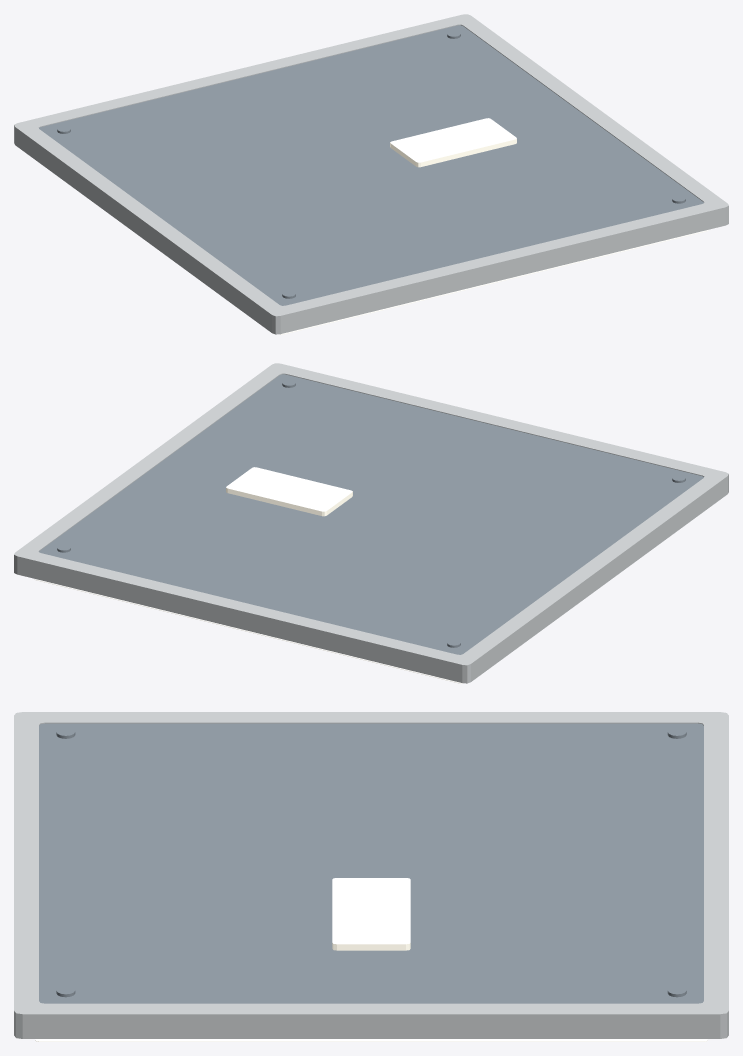
The model's file is source.glb.
The picture shows the model from 3 angles, top to bottom: view 1: azimuth 30°, elevation 25°; view 2: azimuth 150°, elevation 25°; view 3: azimuth 270°, elevation 25°; orthographic projection. The views are drawn at different scales.
Visible parts, largest first — view 1: 机加工金属, 粉末涂层铝壳, Emitters; view 2: 机加工金属, 粉末涂层铝壳, Emitters; view 3: 机加工金属, 粉末涂层铝壳, Emitters.
Boxes of the visible parts, x1,y1,x2,y2 form: 机加工金属: (39,25,703,305); 粉末涂层铝壳: (14,14,728,334); Emitters: (280,118,708,334); 机加工金属: (39,374,703,654); 粉末涂层铝壳: (14,363,728,683); Emitters: (34,467,462,683); 机加工金属: (39,723,703,1003); 粉末涂层铝壳: (14,712,728,1038); Emitters: (35,878,707,1041).
Bounding box in the file's own units: 0.595 × 0.0397 × 0.595.
